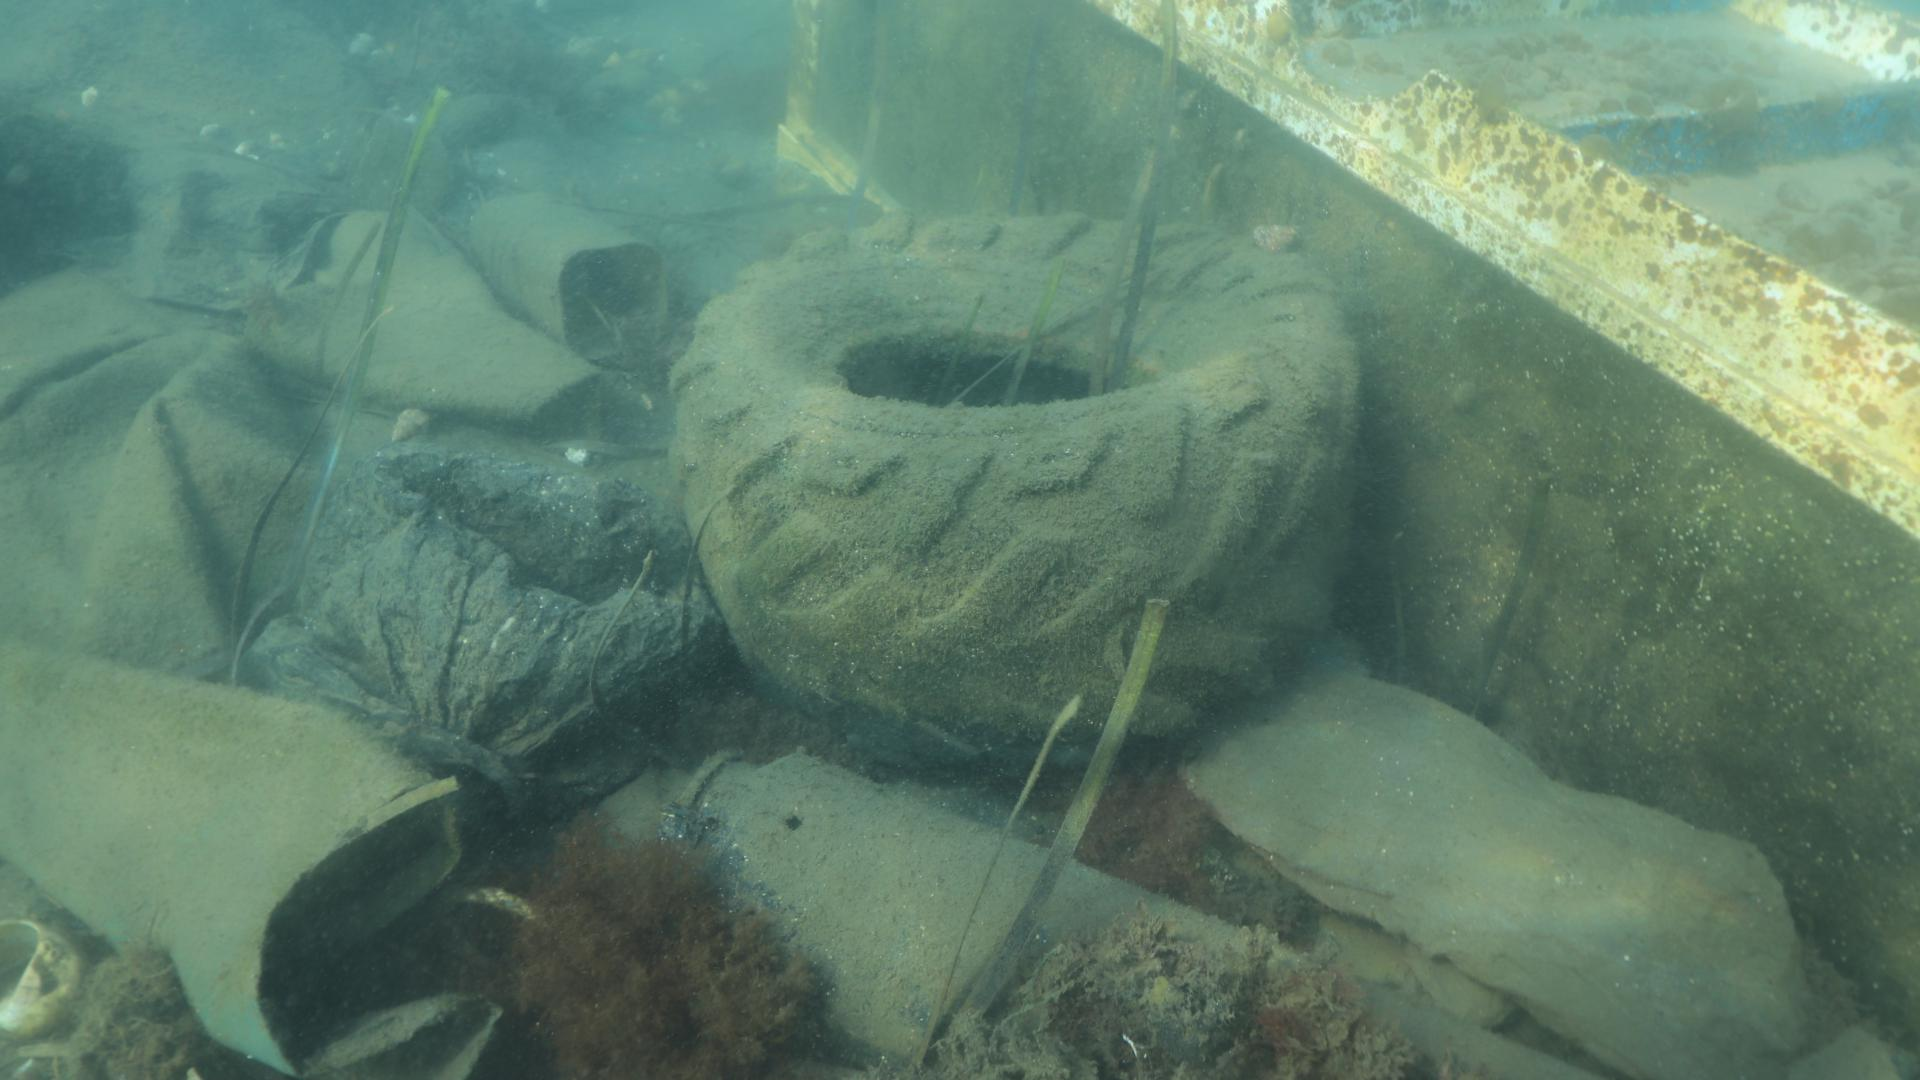tire: (669, 204, 1361, 775)
